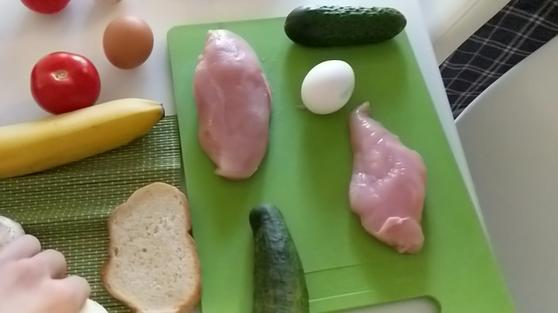banana: (1, 97, 166, 178)
chicken_fillet: (346, 100, 429, 254), (193, 28, 269, 180)
cucumber: (246, 206, 309, 311), (285, 6, 407, 46)
egg: (299, 58, 352, 114), (104, 16, 155, 68)
tomato: (32, 51, 100, 113)
white_bread: (105, 181, 200, 313)
